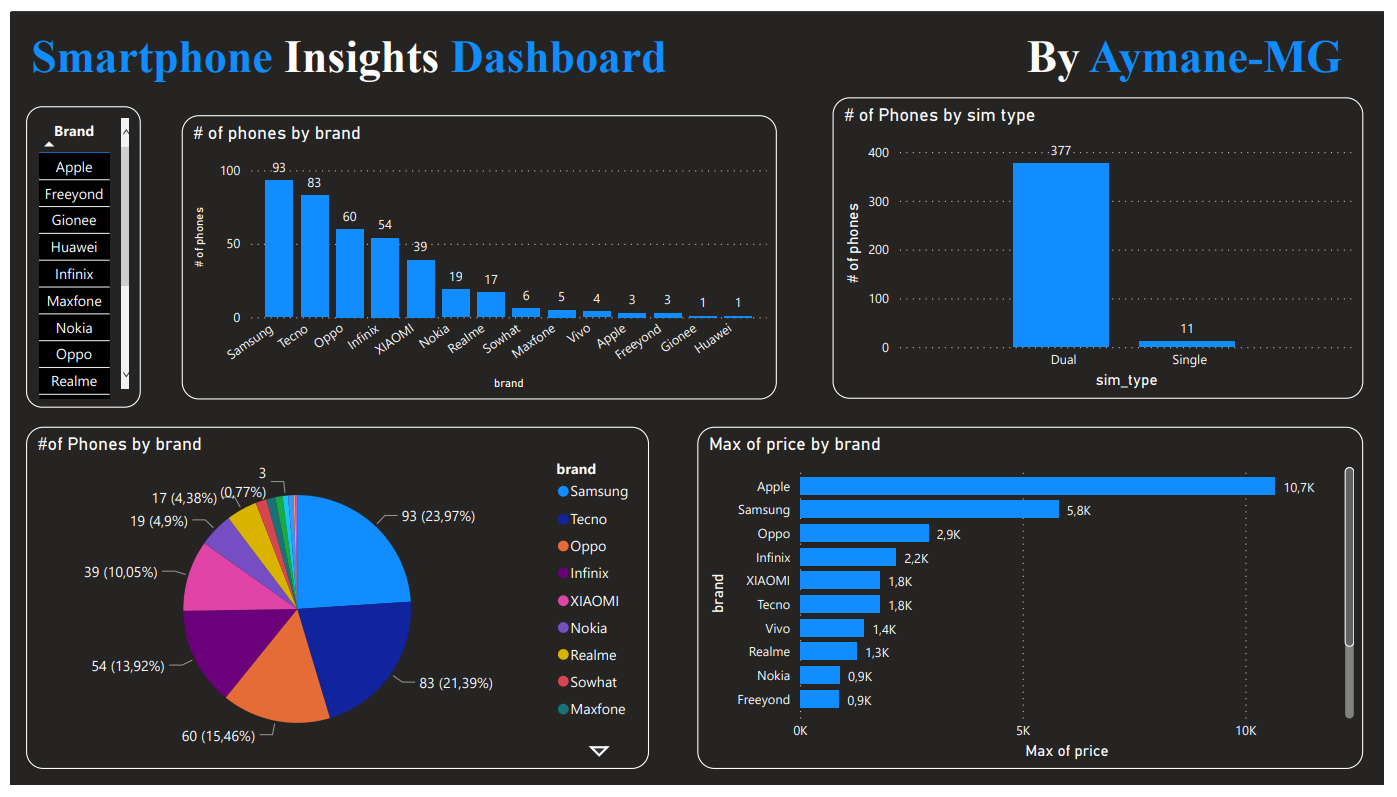

The page's visual inventory and layout, read from the dashboard file:
{"tool":"powerbi","page":{"name":"Page 1","canvas":[1280,720],"ordinal":0},"visuals":[{"type":"clusteredColumnChart","title":"# of Phones by sim type","fields":{"Y":["CountNonNull(public Phone.brand)"],"Category":["public Phone.sim_type"]},"box":[766.4,79.7,495.1,280.9],"z":0},{"type":"pieChart","title":"#of Phones by brand","fields":{"Category":["public Phone.brand"],"Y":["CountNonNull(public Phone.brand)"]},"box":[14.3,386.8,580.8,318.9],"z":1000},{"type":"barChart","fields":{"Category":["public Phone.brand"],"Y":["Max(public Phone.price)"]},"box":[640.3,386.8,621.2,318.9],"z":2000},{"type":"clusteredColumnChart","fields":{"Category":["public Phone.brand"],"Y":["CountNonNull(public Phone.brand)"]},"box":[159.5,96.4,554.6,265.4],"z":3000},{"type":"textbox","box":[14.3,11.9,712.9,63.1],"z":4000},{"type":"tableEx","fields":{"Values":["public Phone.brand"]},"box":[14.3,88.1,107.1,280.9],"z":5000},{"type":"textbox","box":[931.8,11.9,329.7,63.1],"z":6001}]}

Visuals, with their boxes in screenshot pixels (x1, y1, x2, y2), scaled from the page's 1280x720 canvas onto the 1397x797 screenshot:
"# of Phones by sim type" clusteredColumnChart: box(836, 88, 1377, 399)
"#of Phones by brand" pieChart: box(16, 428, 649, 781)
barChart - public Phone.brand x Max(public Phone.price): box(699, 428, 1377, 781)
clusteredColumnChart - public Phone.brand x CountNonNull(public Phone.brand): box(174, 107, 779, 400)
textbox: box(16, 13, 794, 83)
tableEx - public Phone.brand: box(16, 98, 132, 408)
textbox: box(1017, 13, 1377, 83)
